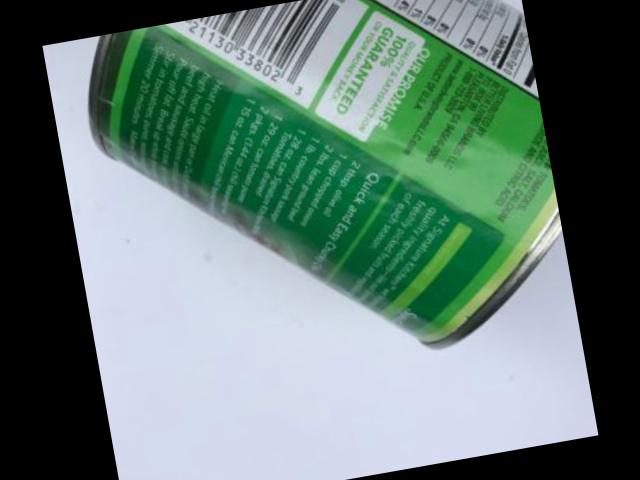metal: (88, 0, 561, 348)
